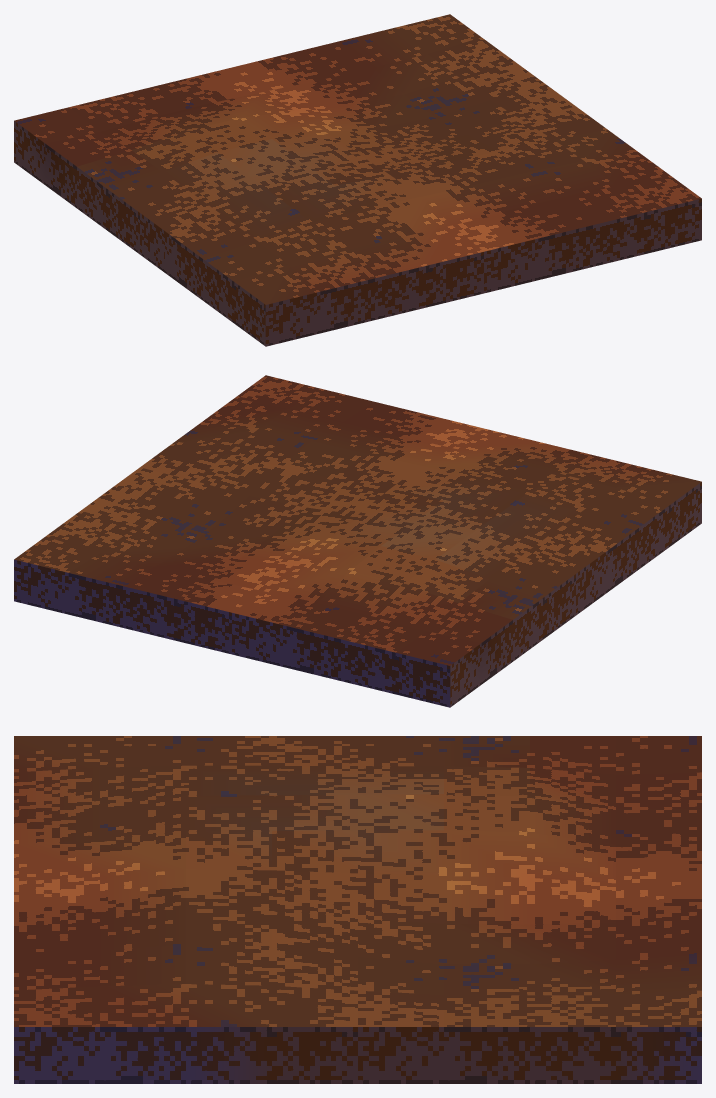
File: planet.ground__field.glb
3 renders of one model, top to bottom at view 1: azimuth 30°, elevation 25°; view 2: azimuth 150°, elevation 25°; view 3: azimuth 270°, elevation 25°, orthographic. The views are drawn at different scales.
Parts seen in each view (by area): view 1: kit_ground; view 2: kit_ground; view 3: kit_ground.
Boxes of the visible parts, x1,y1,x2,y2 form: kit_ground: (14, 14, 701, 346); kit_ground: (14, 375, 701, 707); kit_ground: (14, 736, 701, 1083).
Size of the model in its own units: 8 by 0.923 by 8.
2 materials, 2 textured.
